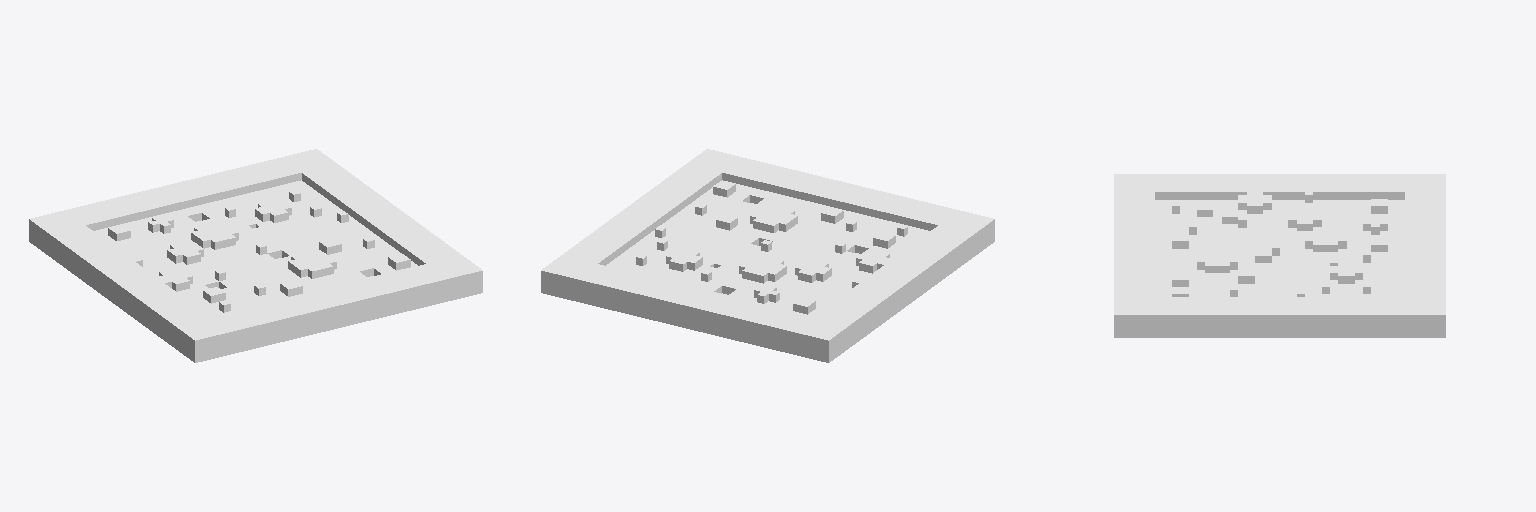
Rendered from poison_cube.obj.
3 views of the same model, side by side, from view 1: azimuth 30°, elevation 25°; view 2: azimuth 150°, elevation 25°; view 3: azimuth 270°, elevation 25° (orthographic).
Visible parts, largest first — view 1: object 1; view 2: object 1; view 3: object 1.
Part boxes in pixels (x1,y1,x2,y2): object 1: (29, 149, 482, 362); object 1: (541, 149, 994, 362); object 1: (1114, 174, 1445, 337).
Bounding box in the file's own units: 4 × 0.3 × 4.